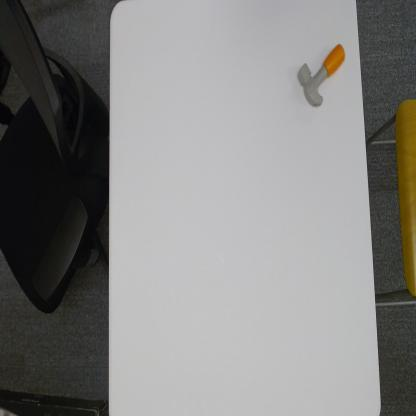Hammer: (297, 43, 346, 109)
